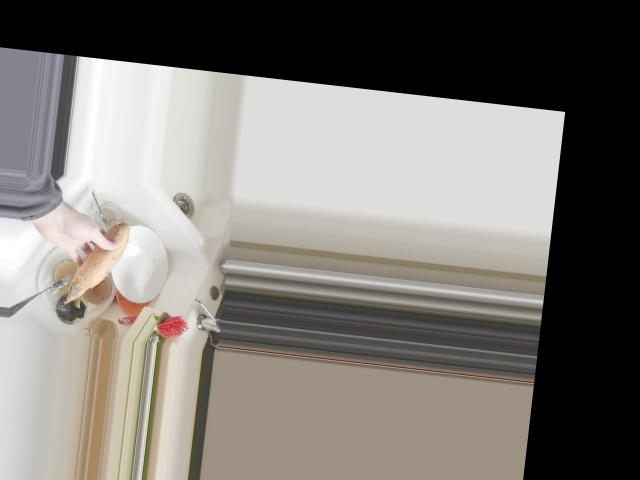sweet_potato: (61, 215, 133, 308)
